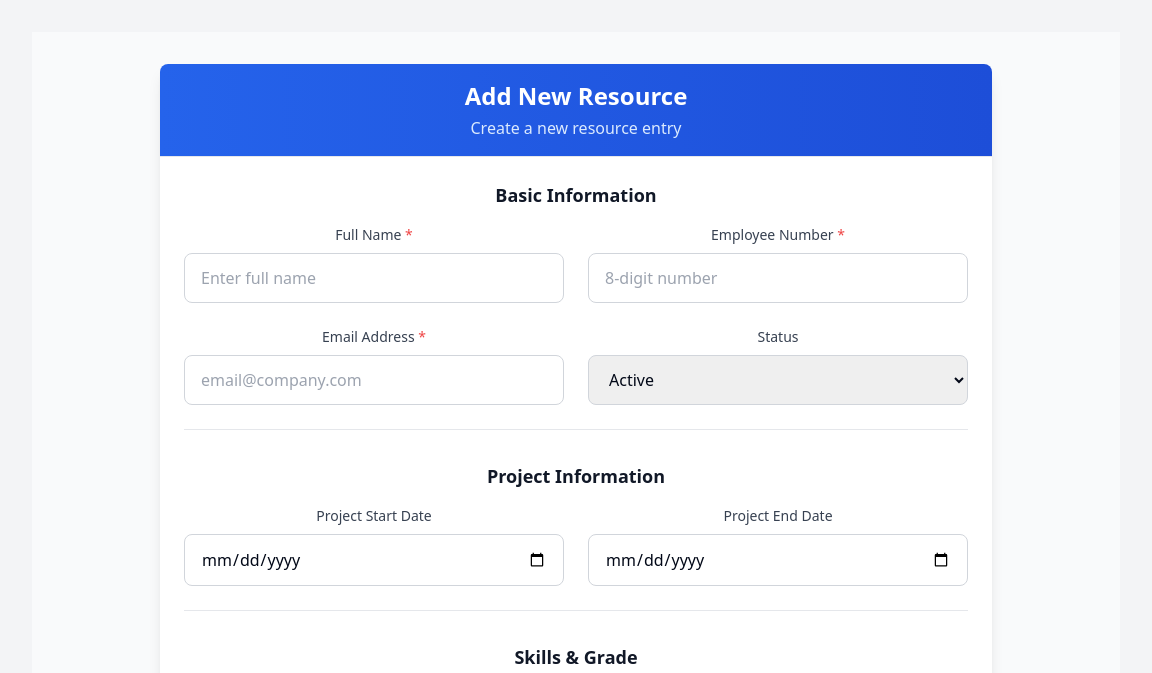
Test case: ResourceForm › Form Validation › should validate email format
Fill in required fields first
Type "John Doe" into the field labelled "Full Name *" at (374, 278), box [184, 253, 564, 303]
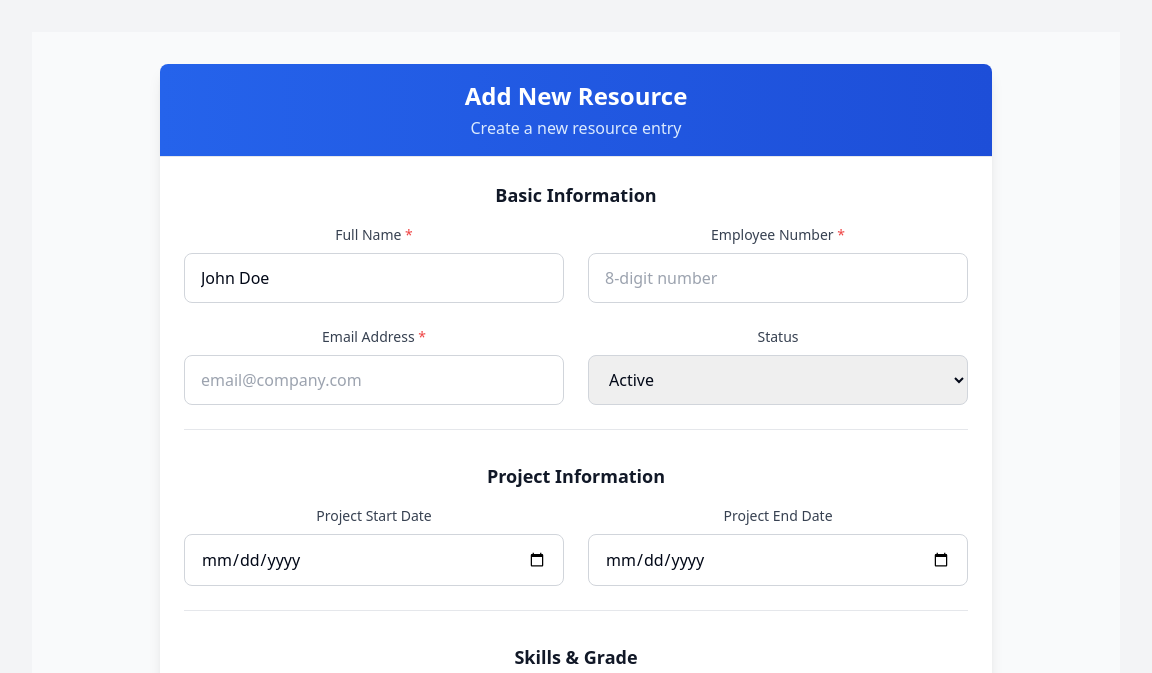
Type "12345678" into the field labelled "Employee Number *" at (778, 278), box [588, 253, 968, 303]
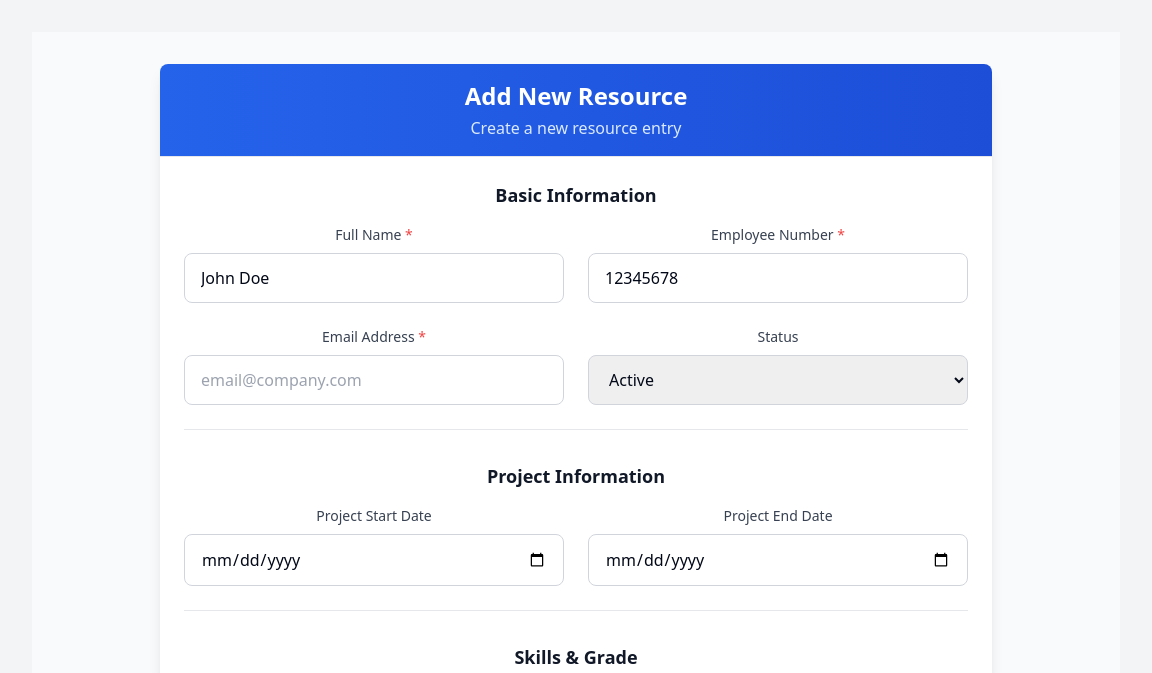
Type "invalid-email" into the field labelled "Email Address *" at (374, 380), box [184, 355, 564, 405]
(page scrolled)
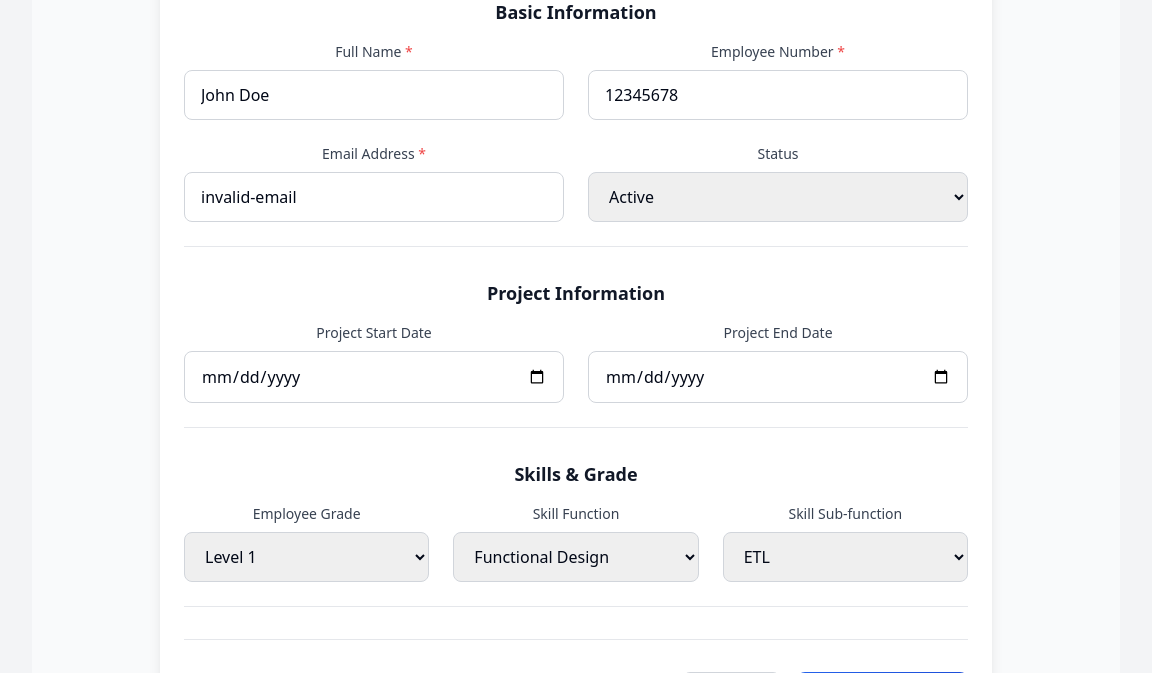
Submit the form using the submit button
Submit the form
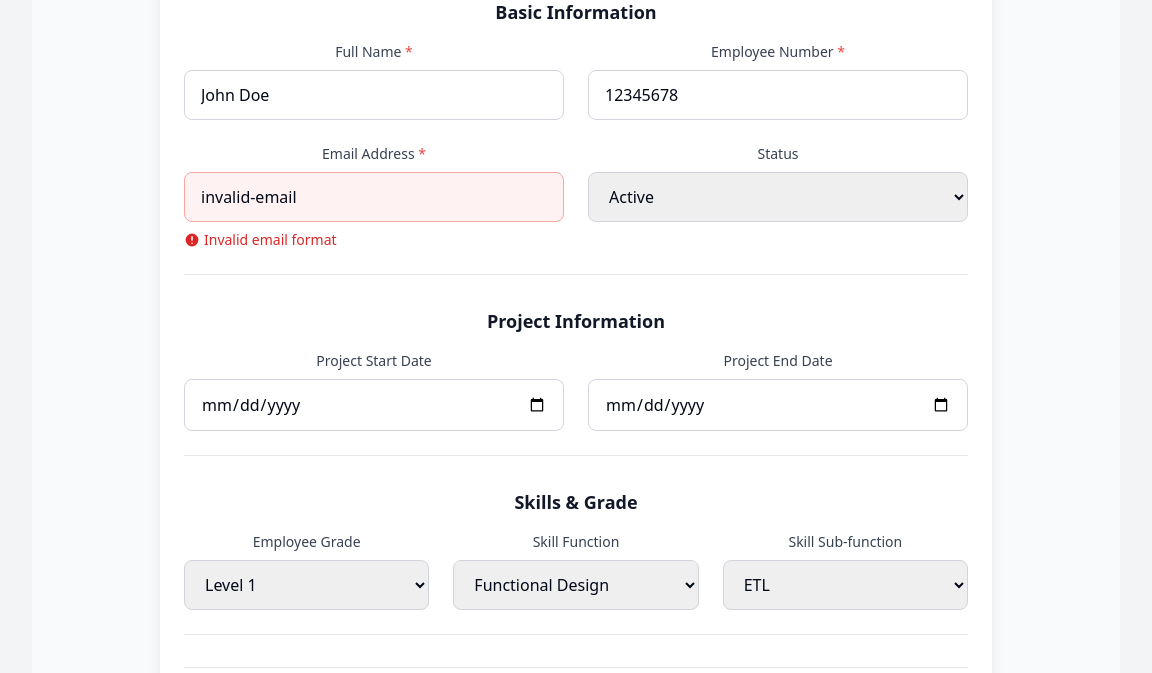
expect the text "Invalid email format" is shown: met, box [184, 230, 337, 249]
